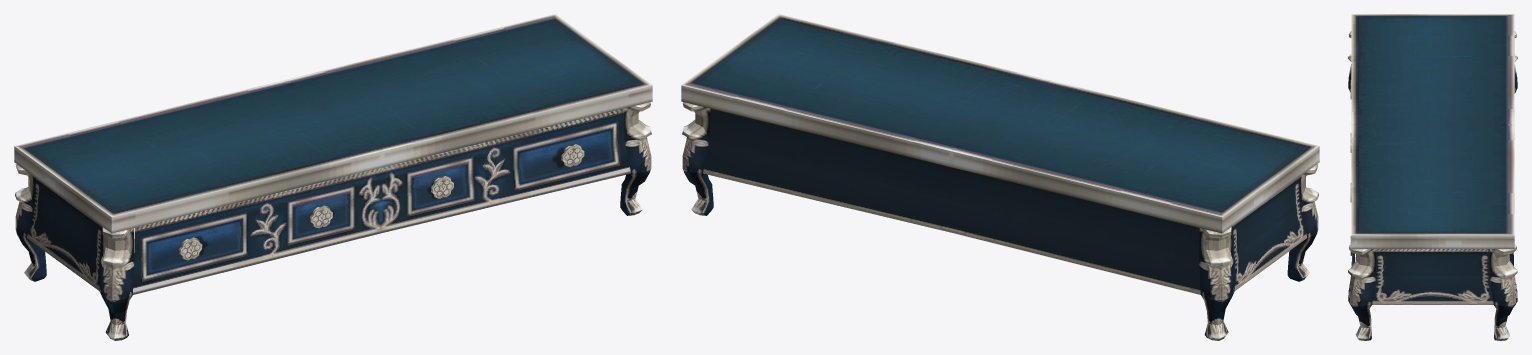
Rendered from furni_0201108_03.FBX.
3 renders of one model, left to right at view 1: azimuth 30°, elevation 25°; view 2: azimuth 150°, elevation 25°; view 3: azimuth 270°, elevation 25°, orthographic. The views are drawn at different scales.
Visible parts, largest first — view 1: furni_0201108_03; view 2: furni_0201108_03; view 3: furni_0201108_03.
Boxes of the visible parts, left/top/right/bottom form: furni_0201108_03: left=14, top=14, right=652, bottom=340; furni_0201108_03: left=681, top=14, right=1319, bottom=340; furni_0201108_03: left=1348, top=14, right=1517, bottom=340.
Size of the model in its own units: 223 by 50.32 by 71.33.
1 material, 1 textured.
